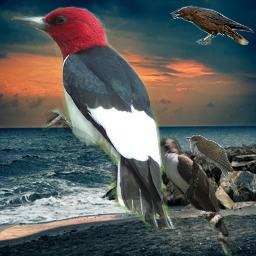Crow: (170, 5, 254, 45)
Cuckoo: (150, 138, 239, 256), (185, 135, 239, 196)
Woodpecker: (9, 6, 179, 229)
